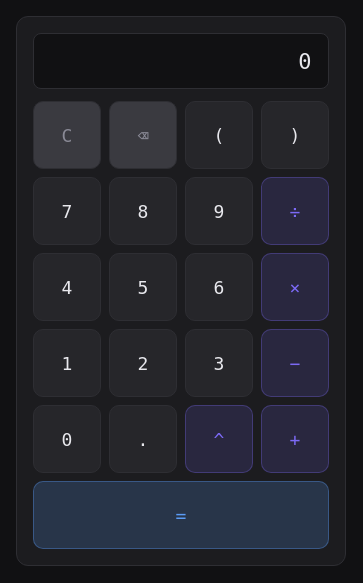
Test: Calculator › clears expression on C
Click the button "9" at [219, 211], box [185,177,253,245]
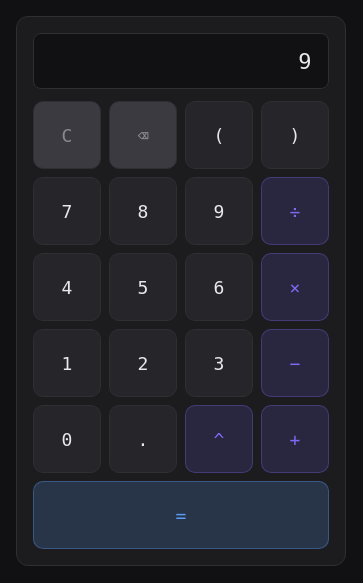
Click the button "C" at [67, 135], box [33,101,101,169]
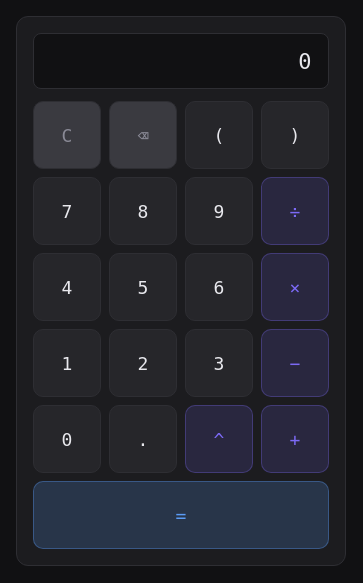
Expected: the text "0" is shown, [298,48,312,74]
